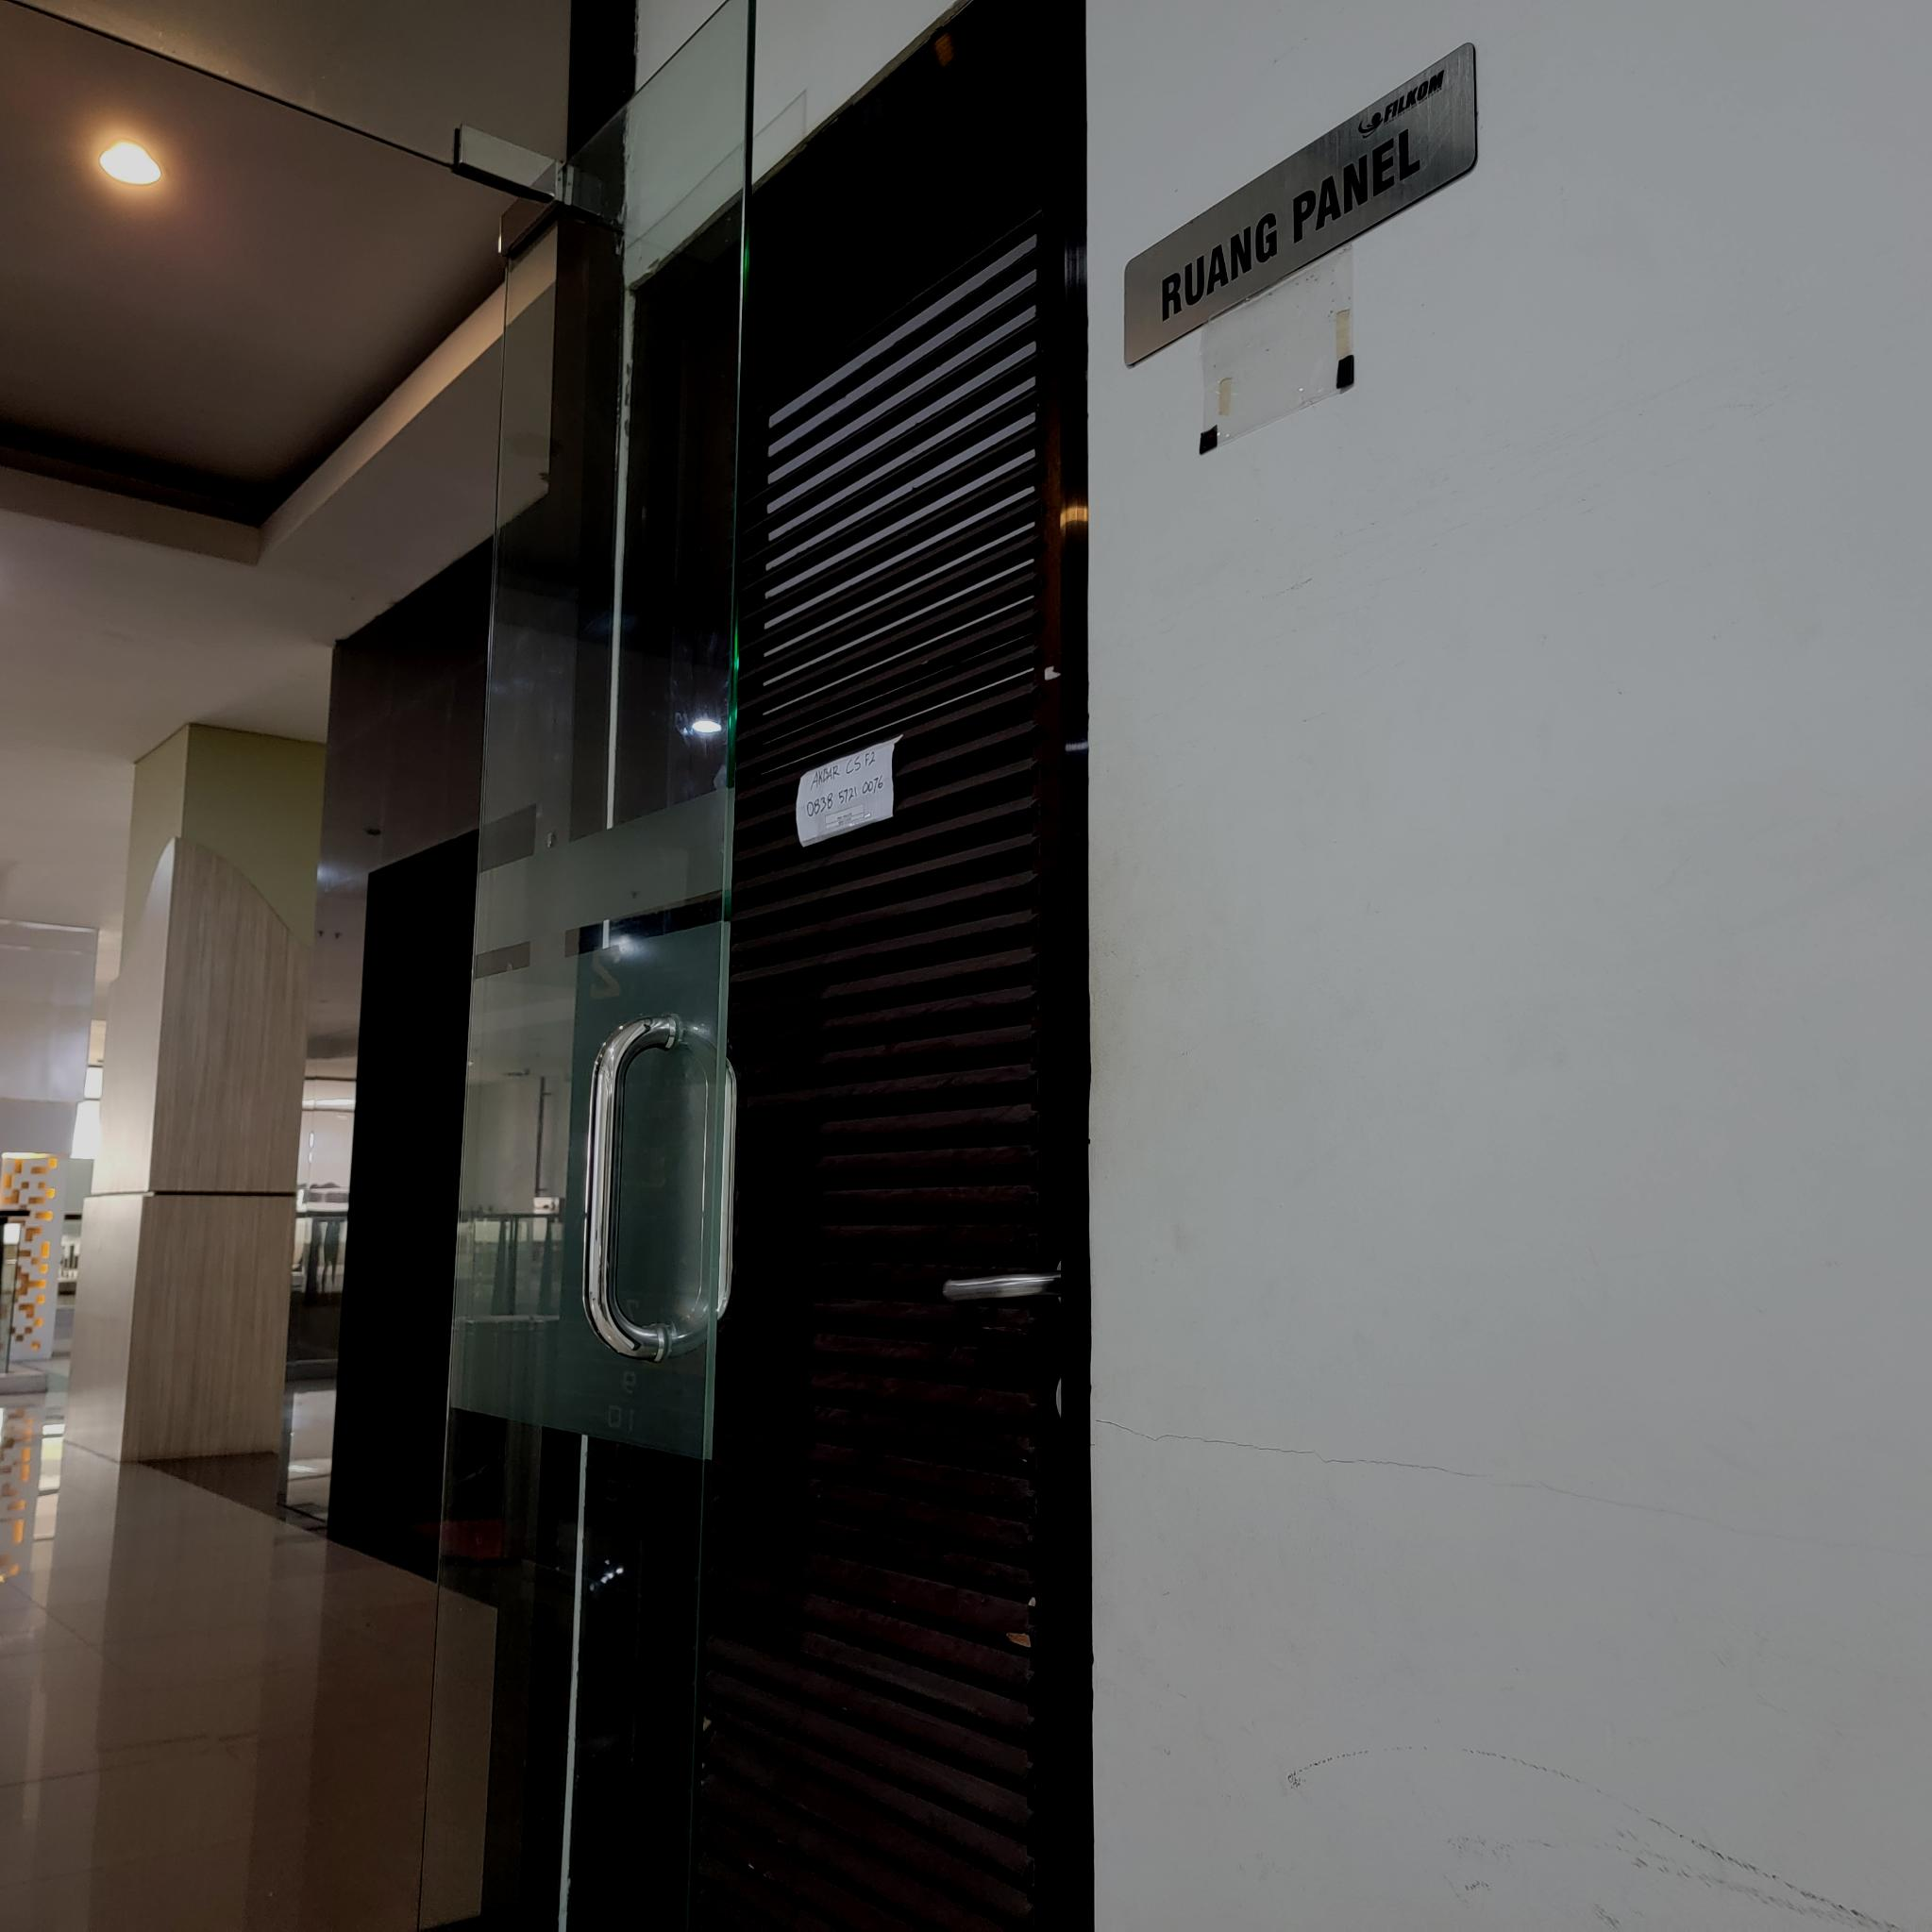plate: (1123, 41, 1479, 368)
